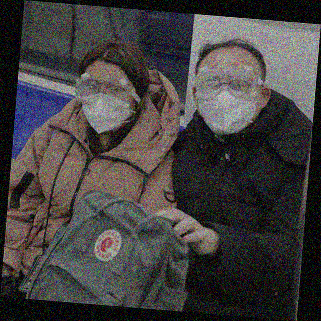with_mask: (196, 72, 259, 137), (79, 77, 132, 135)
